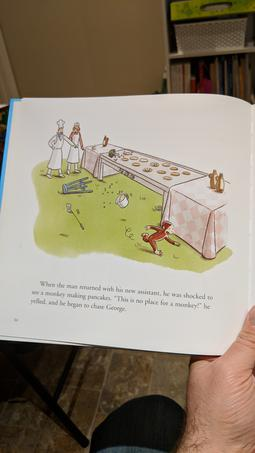text block: (29, 274, 217, 319)
